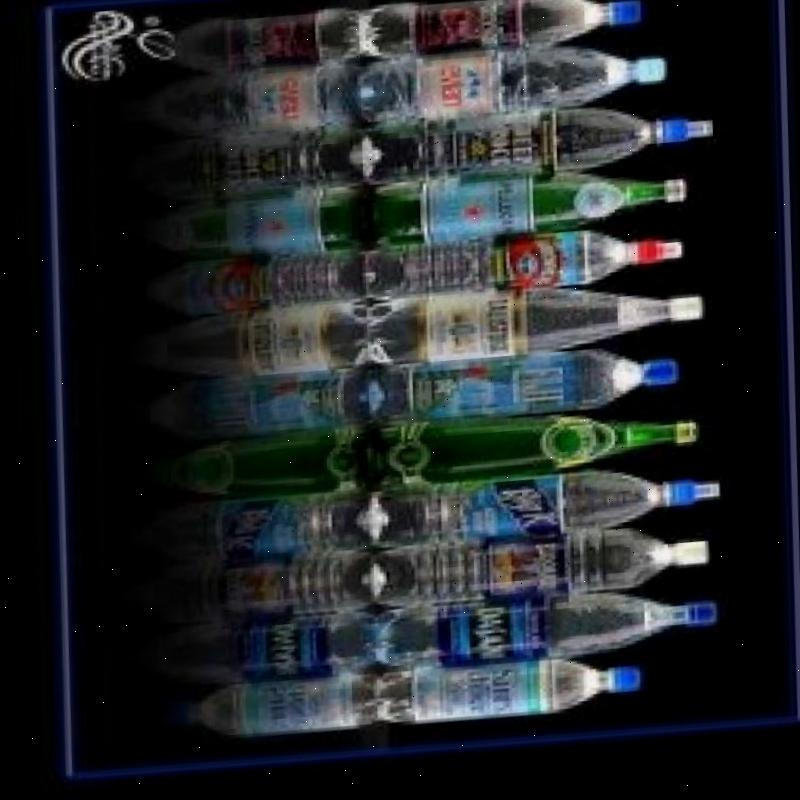botella: (353, 464, 719, 564), (351, 101, 717, 201), (362, 588, 710, 686), (362, 279, 703, 377), (358, 527, 706, 622), (349, 40, 668, 136), (359, 227, 684, 312), (359, 348, 672, 436), (361, 654, 634, 739), (357, 0, 641, 70)
